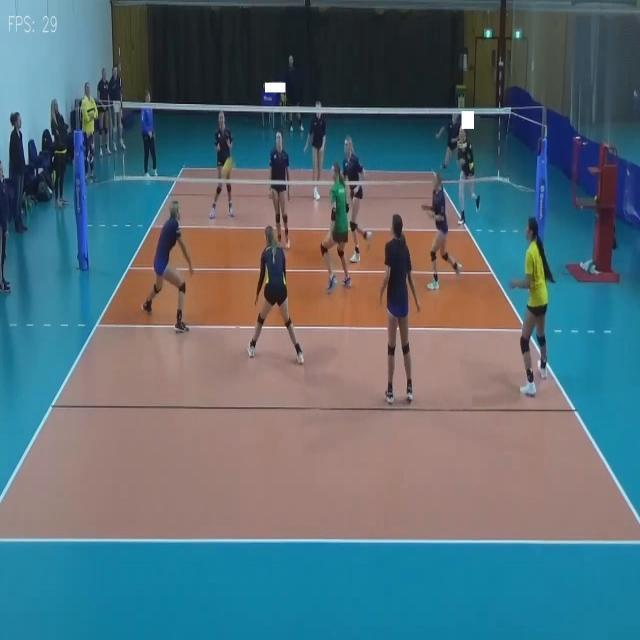volleyball: (220, 159, 232, 179)
